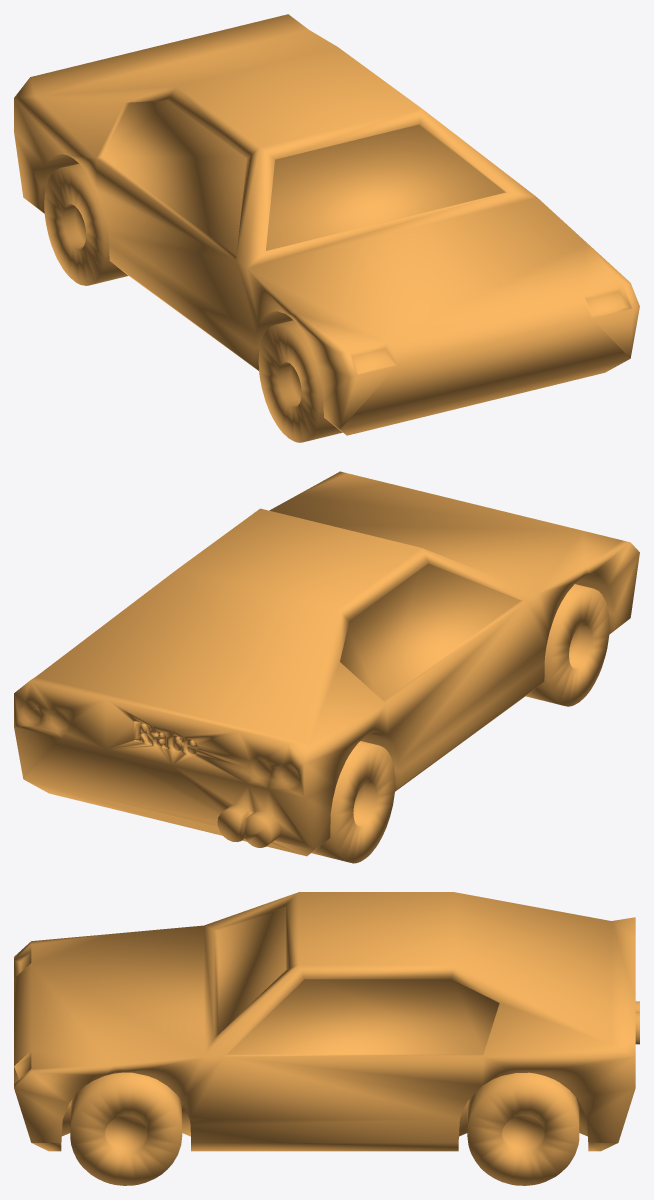
The picture shows the model from 3 angles, top to bottom: view 1: azimuth 30°, elevation 25°; view 2: azimuth 150°, elevation 25°; view 3: azimuth 270°, elevation 25°; orthographic projection. The views are drawn at different scales.
Visible parts, largest first — view 1: body; view 2: body; view 3: body.
Boxes of the visible parts, x1=… form: body: x1=14, y1=14, x2=639, y2=442; body: x1=14, y1=471, x2=639, y2=863; body: x1=14, y1=892, x2=639, y2=1185.
Bounding box in the file's own units: 2.09 × 1.42 × 4.2.
